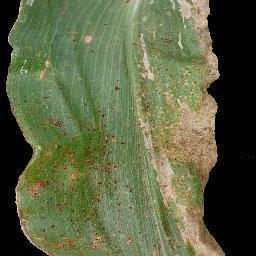Corn_Common_Rust: (44, 80, 167, 256), (167, 0, 226, 256), (4, 0, 43, 248), (133, 0, 166, 78), (42, 46, 53, 78), (76, 29, 94, 48), (112, 0, 132, 6)
